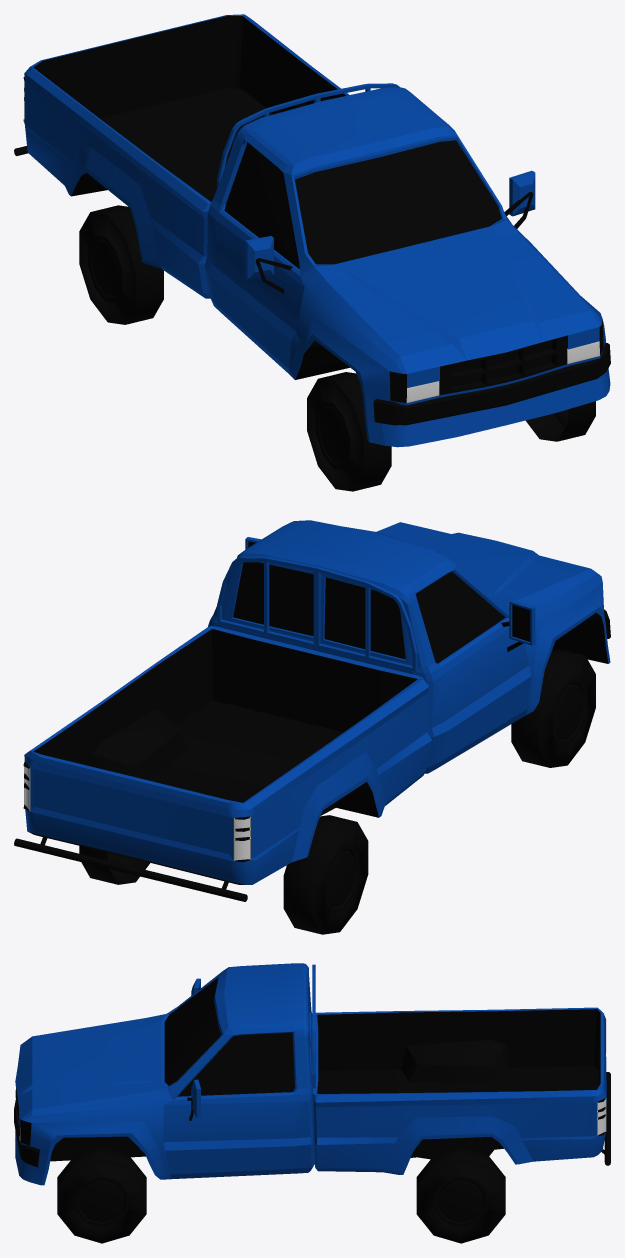
Rendered from ToyotaLodHukuk.fbx.
3 renders of one model, top to bottom at view 1: azimuth 30°, elevation 25°; view 2: azimuth 150°, elevation 25°; view 3: azimuth 270°, elevation 25°, orthographic. The views are drawn at different scales.
Visible parts, largest first — view 1: polySurface5, polySurface1, polySurface2, polySurface4; view 2: polySurface5, polySurface1, polySurface2, polySurface3; view 3: polySurface5, polySurface3, polySurface4.
Boxes of the visible parts, left/top/right/bottom form: polySurface5: left=14, top=14, right=610, bottom=447; polySurface1: left=79, top=205, right=163, bottom=324; polySurface2: left=307, top=372, right=391, bottom=491; polySurface4: left=525, top=401, right=595, bottom=441; polySurface5: left=14, top=520, right=610, bottom=901; polySurface1: left=283, top=815, right=368, bottom=934; polySurface2: left=511, top=648, right=595, bottom=767; polySurface3: left=79, top=846, right=149, bottom=884; polySurface5: left=14, top=963, right=610, bottom=1185; polySurface3: left=416, top=1148, right=505, bottom=1243; polySurface4: left=57, top=1148, right=146, bottom=1243.
Bounding box in the file's own units: 15.97 × 14.2 × 36.37.
